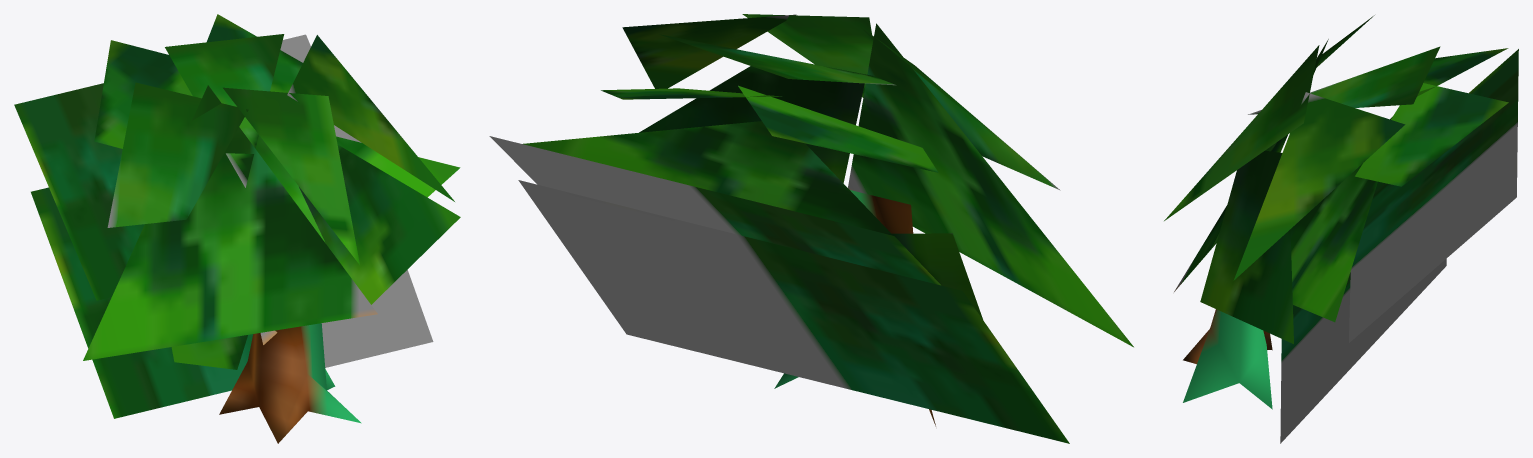
Rendered from fg_bushA_1.dae.
3 renders of one model, left to right at view 1: azimuth 30°, elevation 25°; view 2: azimuth 150°, elevation 25°; view 3: azimuth 270°, elevation 25°, orthographic. The views are drawn at different scales.
Parts seen in each view (by area): view 1: fg_bushA_1; view 2: fg_bushA_1; view 3: fg_bushA_1.
Part boxes in pixels (x1,y1,x2,y2): fg_bushA_1: (14, 14, 460, 443); fg_bushA_1: (489, 14, 1133, 443); fg_bushA_1: (1164, 15, 1518, 443).
Bounding box in the file's own units: 35.43 × 25.39 × 25.39.
1 material, 1 textured.
